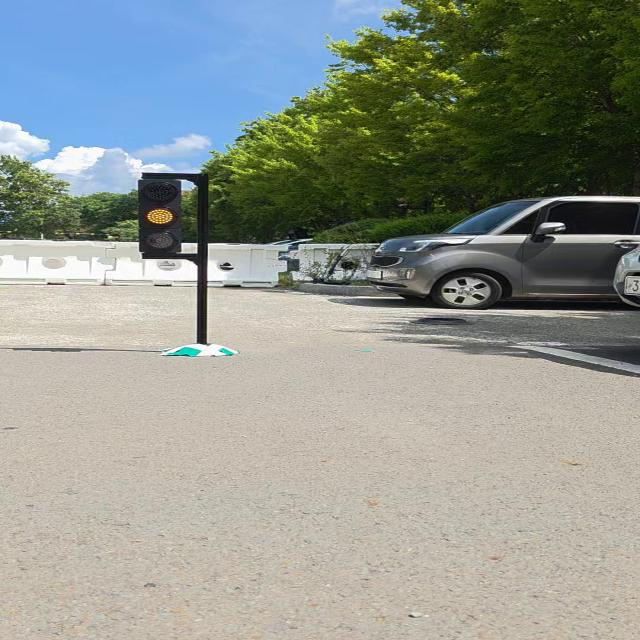yellow: (136, 179, 184, 253)
